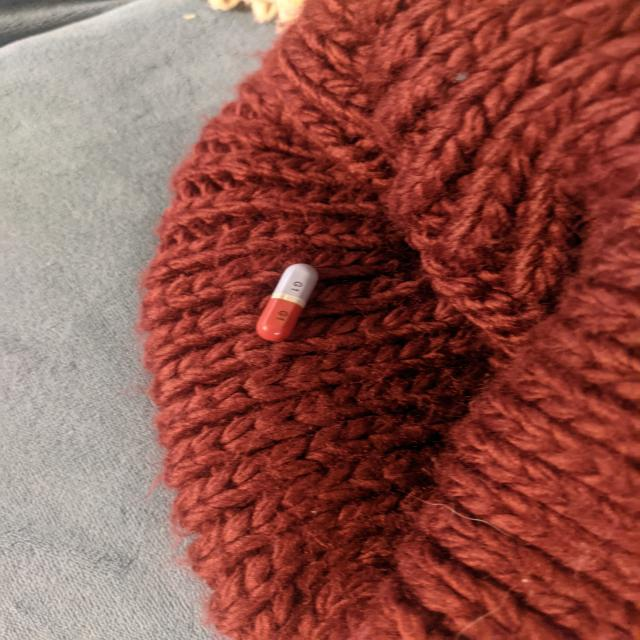non-organic waste: (254, 262, 320, 342)
